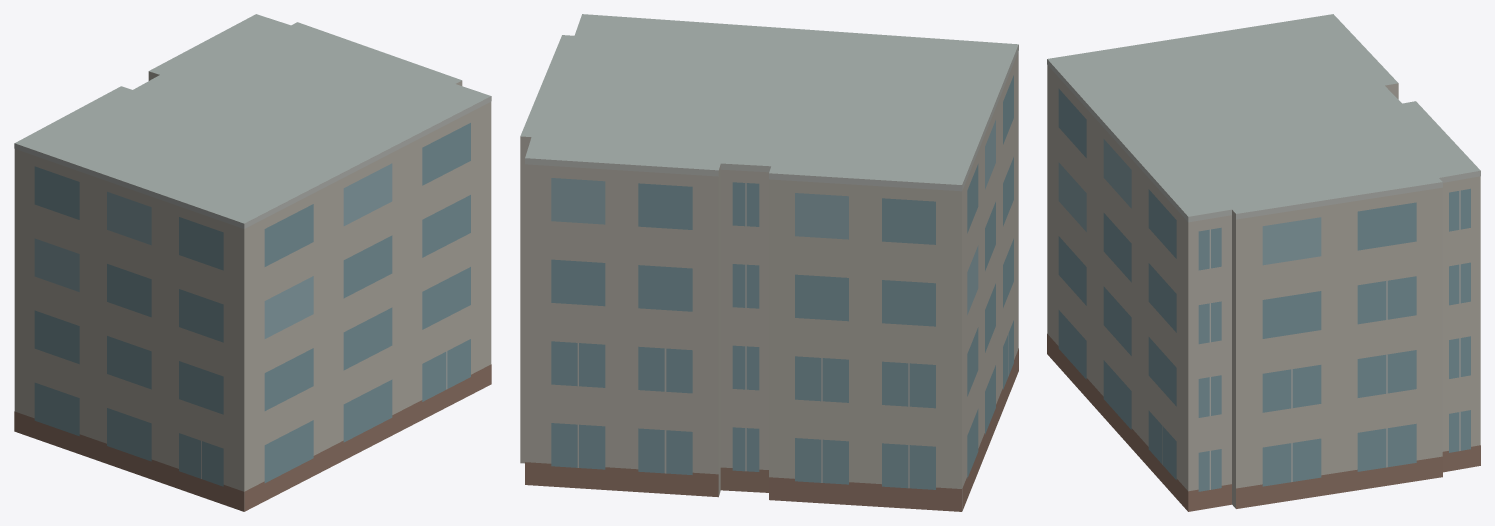
File: survey-upis-33046623.glb
3 renders of one model, left to right at view 1: azimuth 30°, elevation 25°; view 2: azimuth 150°, elevation 25°; view 3: azimuth 270°, elevation 25°, orthographic. The views are drawn at different scales.
Parts seen in each view (by area): view 1: survey-upis-33046623.tmp; view 2: survey-upis-33046623.tmp; view 3: survey-upis-33046623.tmp.
Part boxes in pixels (x1,y1,x2,y2): survey-upis-33046623.tmp: (14,14,491,511); survey-upis-33046623.tmp: (520,14,1018,511); survey-upis-33046623.tmp: (1047,14,1480,511).
Size of the model in its own units: 19.03 by 12.9 by 17.19.
